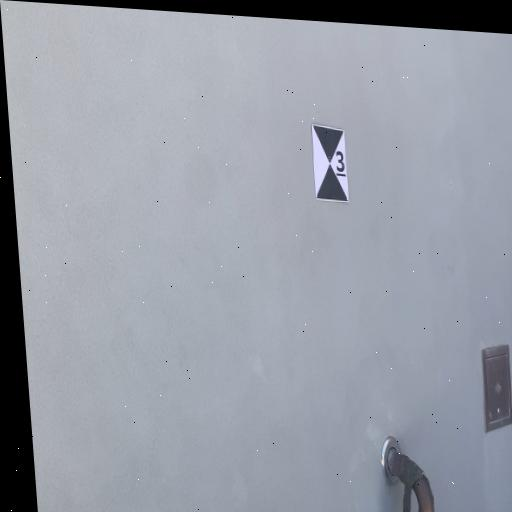target3: (311, 123, 349, 203)
